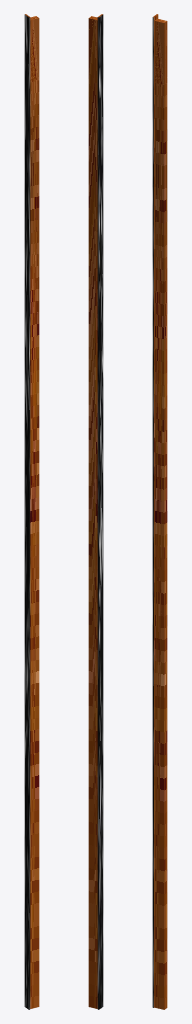
Rendered from clean_rigte_dooorlift.glb.
3 views of the same model, side by side, from view 1: azimuth 30°, elevation 25°; view 2: azimuth 150°, elevation 25°; view 3: azimuth 330°, elevation 25° (orthographic).
Visible parts, largest first — view 1: Куб; view 2: Куб; view 3: Куб.
Boxes of the visible parts, x1,y1,x2,y2 form: Куб: (24, 14, 39, 1009); Куб: (88, 14, 103, 1009); Куб: (152, 14, 167, 1009).
Size of the model in its own units: 1.3 by 112 by 0.8765.
2 materials, 2 textured.
